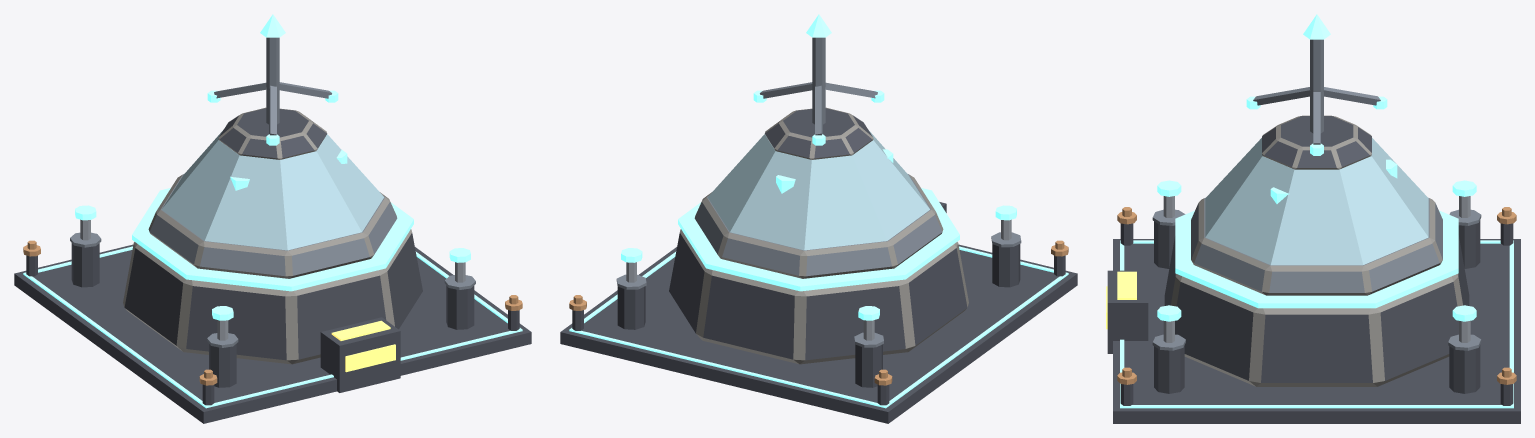
File: laboratorio_sem_textura.glb
3 renders of one model, left to right at view 1: azimuth 30°, elevation 25°; view 2: azimuth 150°, elevation 25°; view 3: azimuth 270°, elevation 25°, orthographic. The views are drawn at different scales.
Parts seen in each view (by area): view 1: laboratorio_corpo, laboratorio_antena, laboratorio_pistao0, laboratorio_pistao1, laboratorio_pistao2; view 2: laboratorio_corpo, laboratorio_antena, laboratorio_pistao1, laboratorio_pistao0, laboratorio_pistao3; view 3: laboratorio_corpo, laboratorio_antena, laboratorio_pistao2, laboratorio_pistao3, laboratorio_pistao0, laboratorio_pistao1.
Part boxes in pixels (left/top/right/bottom): laboratorio_corpo: left=14, top=107, right=531, bottom=423; laboratorio_antena: left=207, top=14, right=338, bottom=145; laboratorio_pistao0: left=212, top=306, right=233, bottom=340; laboratorio_pistao1: left=75, top=205, right=96, bottom=240; laboratorio_pistao2: left=449, top=248, right=470, bottom=282; laboratorio_corpo: left=560, top=107, right=1077, bottom=423; laboratorio_antena: left=753, top=14, right=884, bottom=145; laboratorio_pistao1: left=858, top=306, right=879, bottom=340; laboratorio_pistao0: left=995, top=205, right=1016, bottom=240; laboratorio_pistao3: left=621, top=248, right=642, bottom=282; laboratorio_corpo: left=1106, top=115, right=1520, bottom=423; laboratorio_antena: left=1246, top=14, right=1387, bottom=155; laboratorio_pistao2: left=1157, top=305, right=1181, bottom=342; laboratorio_pistao3: left=1452, top=305, right=1476, bottom=342; laboratorio_pistao0: left=1157, top=180, right=1181, bottom=217; laboratorio_pistao1: left=1452, top=180, right=1476, bottom=217.
Bounding box in the file's own units: 2.9 × 2.54 × 2.95.
